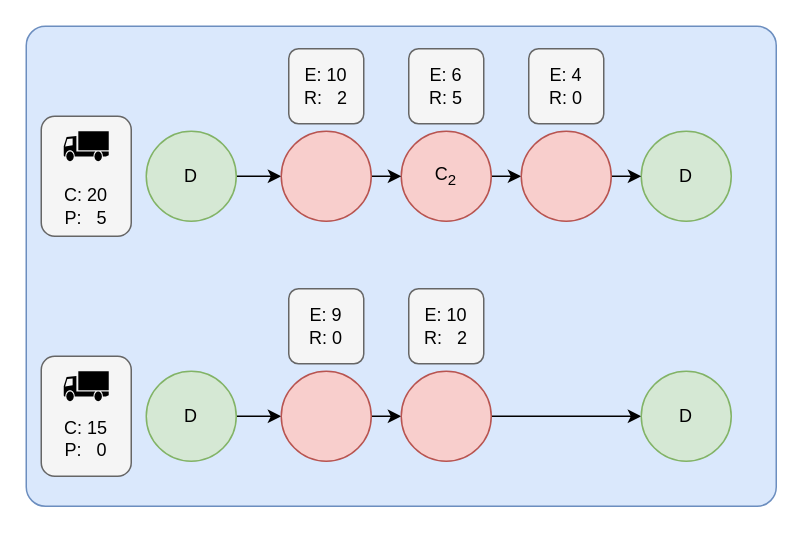
The diagram is 803 pixels wide and 533 high, and some of its shapes have lost their labels. The shapes that lost their labels are listed below. From the top down, each one's centre as x and y in pixels, then its label:
At (325,175): "C 1".
At (565,175): "C 3".
At (325,415): "C 4".
At (445,415): "C 5".
